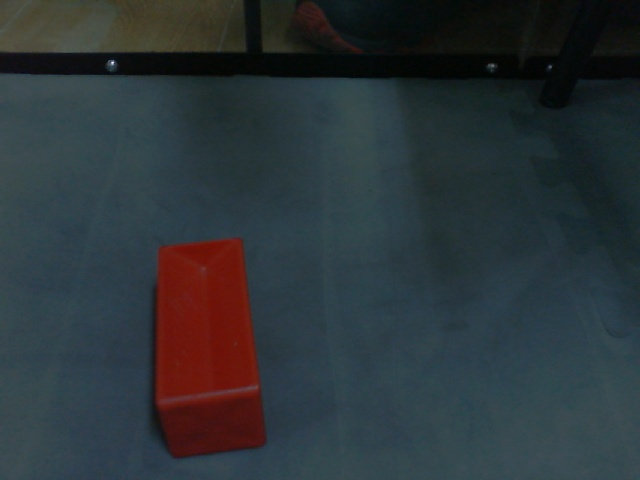RedSample: (152, 235, 271, 460)
